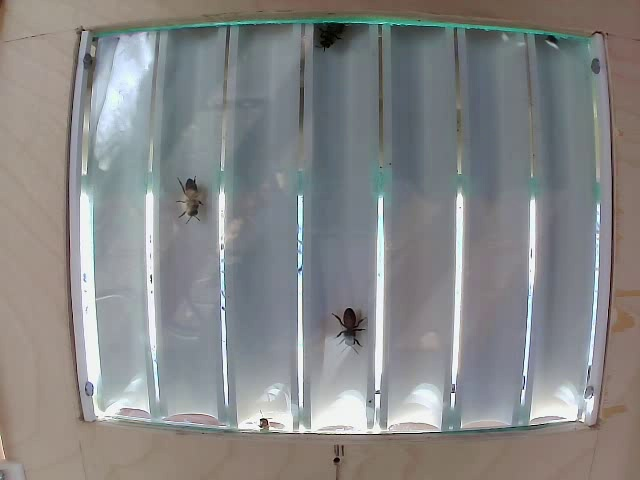bee: (173, 167, 216, 234), (333, 296, 365, 349)
